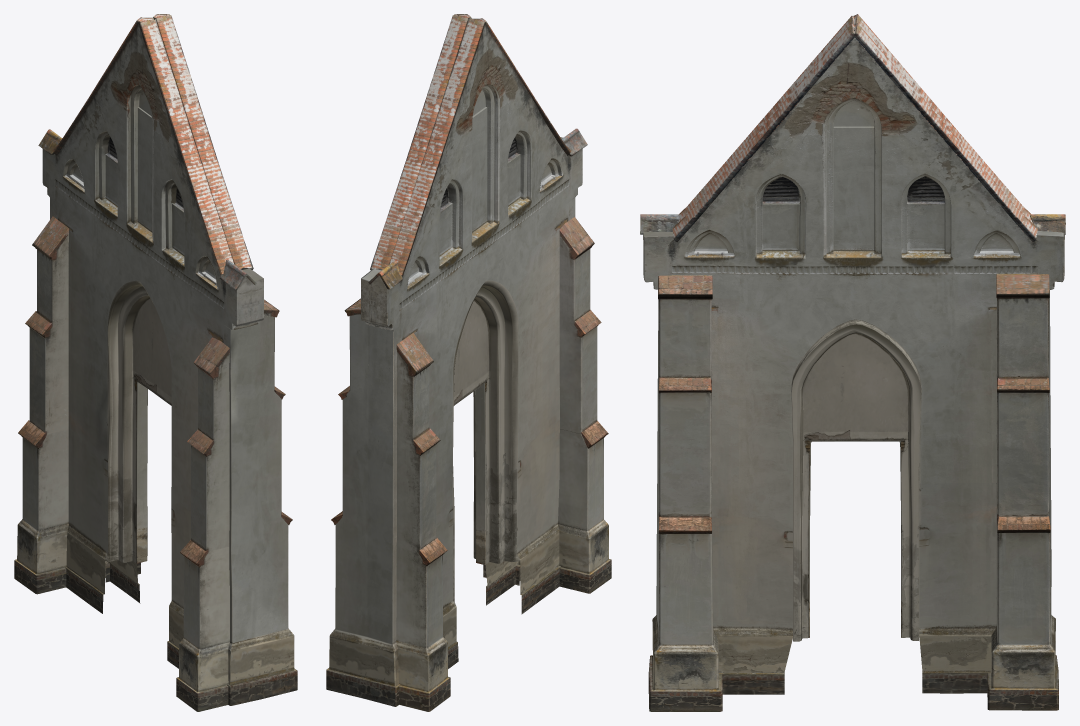
Rendered from sm_Church_01_29.fbx.
3 renders of one model, left to right at view 1: azimuth 30°, elevation 25°; view 2: azimuth 150°, elevation 25°; view 3: azimuth 270°, elevation 25°, orthographic. The views are drawn at different scales.
Parts seen in each view (by area): view 1: sm_Church_01_29_LOD0; view 2: sm_Church_01_29_LOD0; view 3: sm_Church_01_29_LOD0.
Boxes of the visible parts, box(x1,y1,x2,y2) form: sm_Church_01_29_LOD0: box(14, 14, 297, 711); sm_Church_01_29_LOD0: box(326, 14, 611, 711); sm_Church_01_29_LOD0: box(640, 14, 1065, 711).
Bounding box in the file's own units: 149 × 511 × 882.
